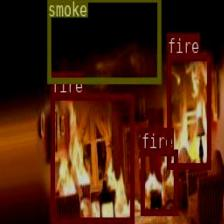fire: (50, 93, 133, 222), (166, 54, 210, 167), (140, 148, 176, 214)
smoke: (46, 0, 160, 82)
